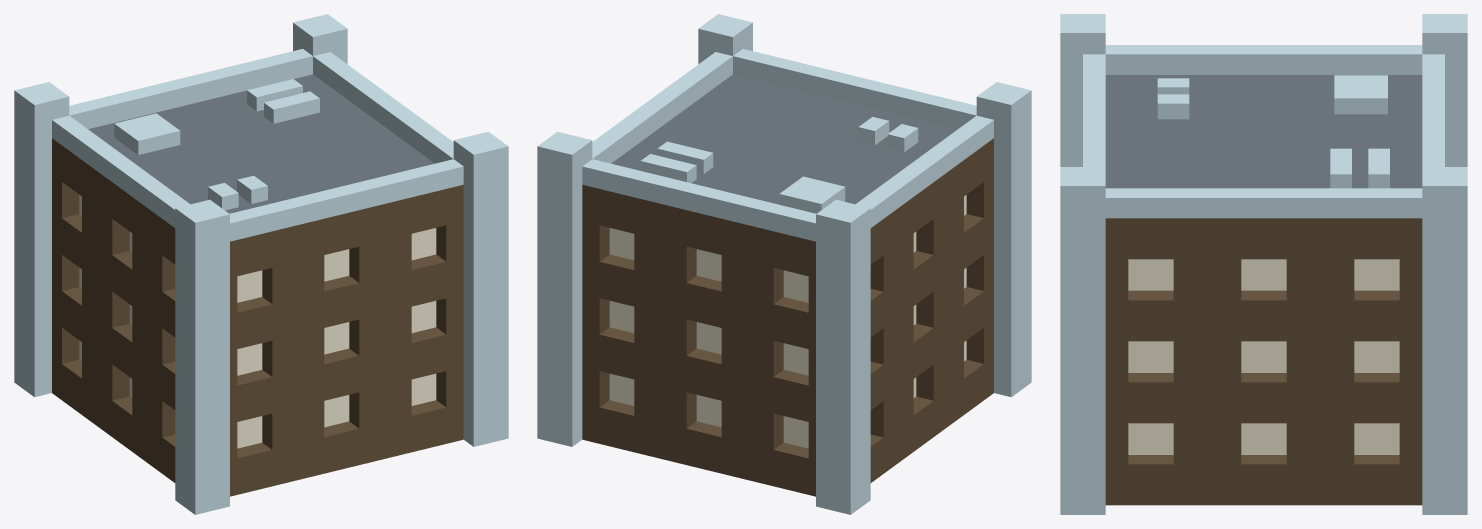
Rendered from Building_11_Extra (Brown).obj.
3 renders of one model, left to right at view 1: azimuth 30°, elevation 25°; view 2: azimuth 150°, elevation 25°; view 3: azimuth 270°, elevation 25°, orthographic. The views are drawn at different scales.
Parts seen in each view (by area): view 1: Building_11_Extra_(Brown); view 2: Building_11_Extra_(Brown); view 3: Building_11_Extra_(Brown).
Part boxes in pixels (box(x1,y1,x2,y2)): Building_11_Extra_(Brown): box(14, 14, 508, 514); Building_11_Extra_(Brown): box(537, 14, 1031, 514); Building_11_Extra_(Brown): box(1060, 14, 1467, 514).
Size of the model in its own units: 1.8 by 1.6 by 1.8.
